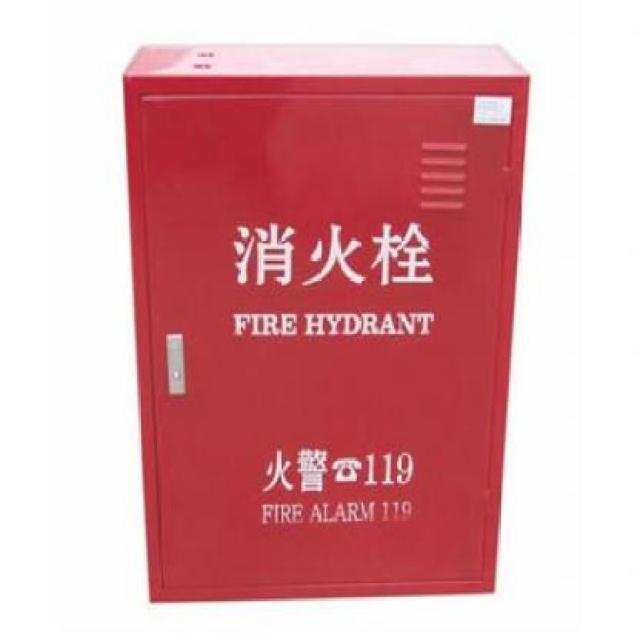firehydrant: (118, 37, 534, 611)
